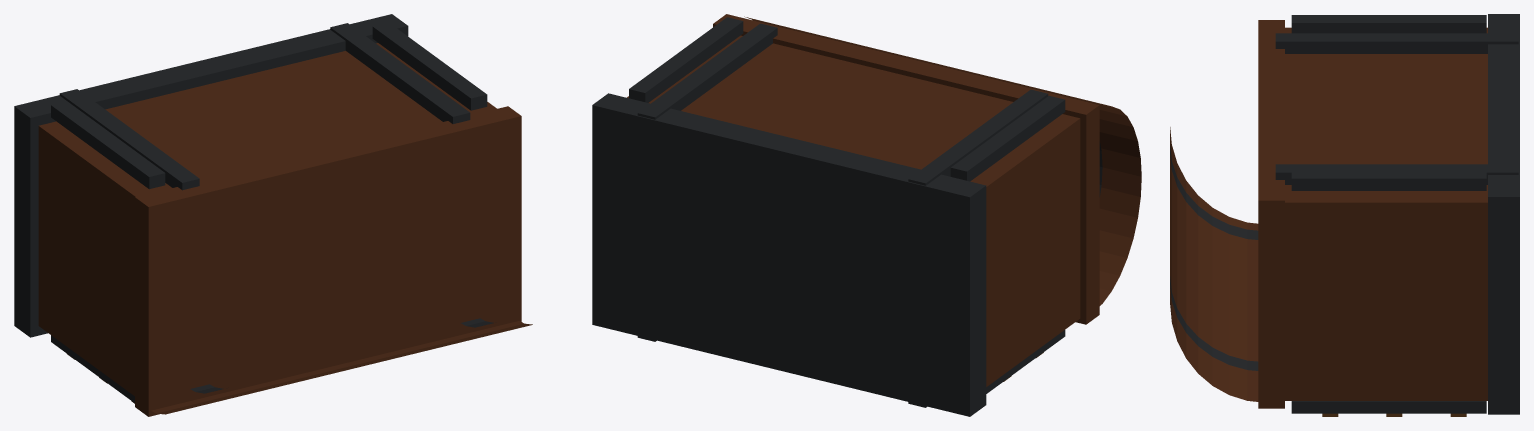
3 views of the same model, side by side, from view 1: azimuth 30°, elevation 25°; view 2: azimuth 150°, elevation 25°; view 3: azimuth 270°, elevation 25° (orthographic).
Bounding box in the file's own units: 1.62 × 1.02 × 1.31.
